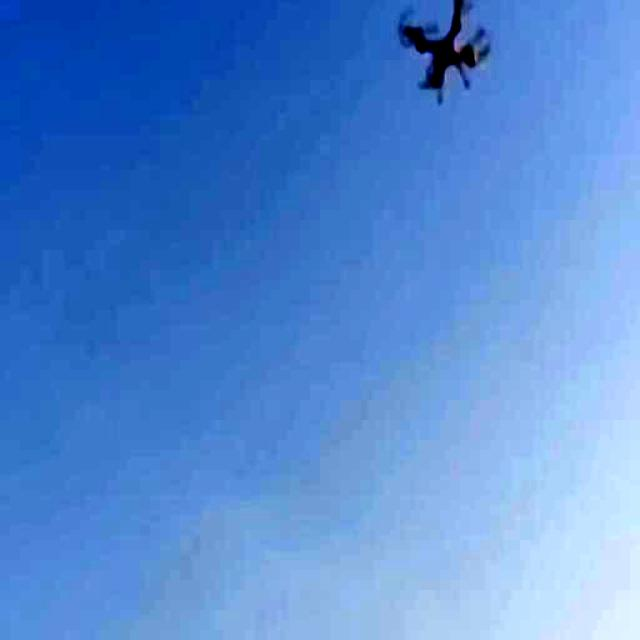bird: (396, 0, 495, 101)
